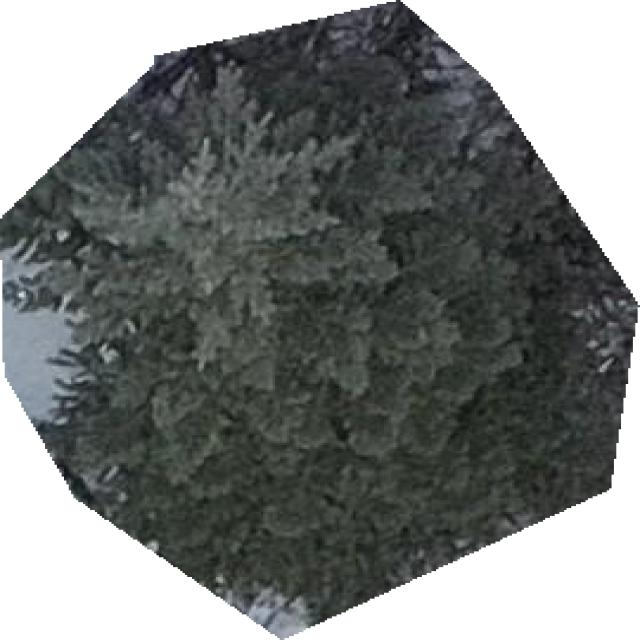spruce: (0, 2, 638, 638)
